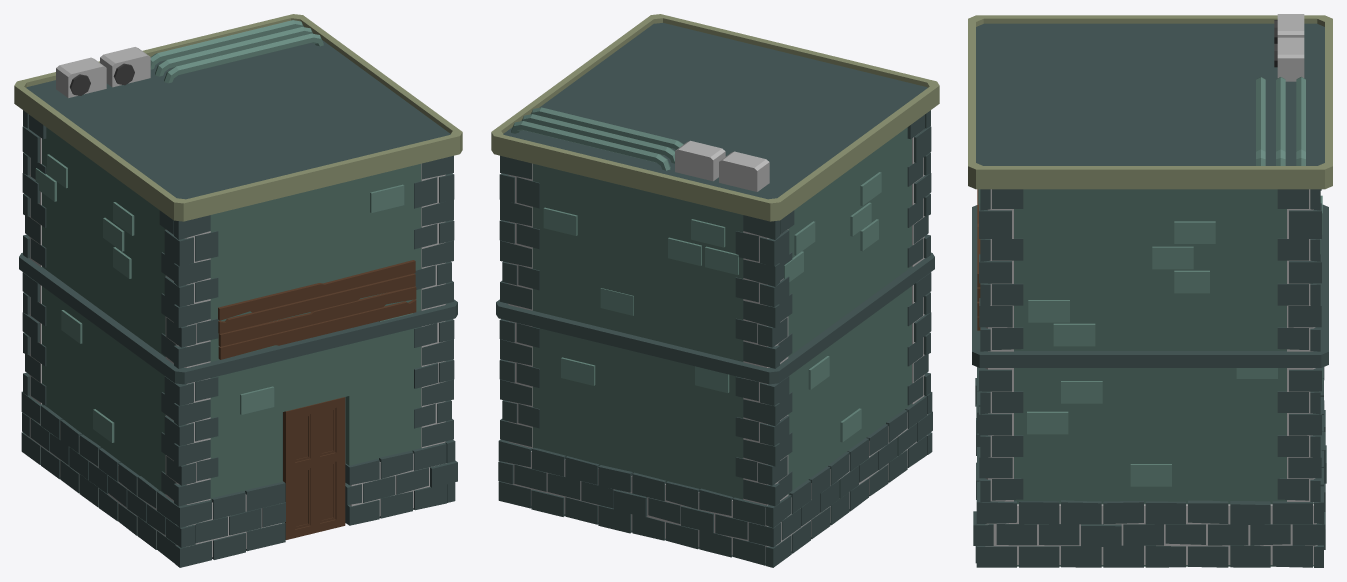
File: 2Story_Sign_Mat.glb
3 views of the same model, side by side, from view 1: azimuth 30°, elevation 25°; view 2: azimuth 150°, elevation 25°; view 3: azimuth 270°, elevation 25° (orthographic). The views are drawn at different scales.
Parts seen in each view (by area): view 1: 2Story_Sign_Mat; view 2: 2Story_Sign_Mat; view 3: 2Story_Sign_Mat.
Boxes of the visible parts, x1=… form: 2Story_Sign_Mat: x1=14, y1=14, x2=462, y2=567; 2Story_Sign_Mat: x1=491, y1=14, x2=939, y2=567; 2Story_Sign_Mat: x1=968, y1=14, x2=1332, y2=567.
Bounding box in the file's own units: 2.15 × 2.76 × 2.15.
